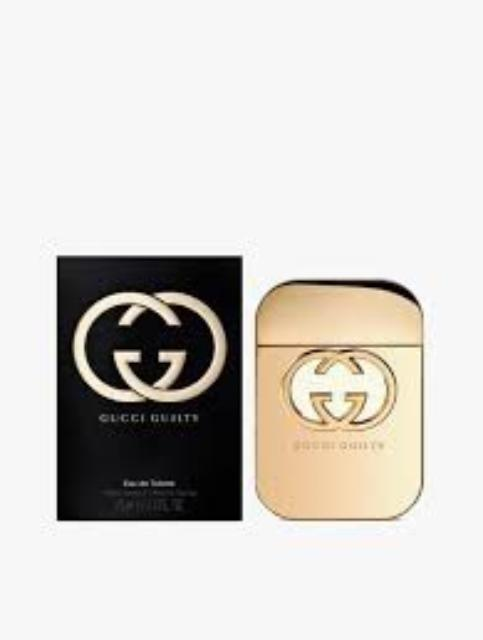Gucci: (69, 285, 231, 407), (277, 338, 404, 436)
